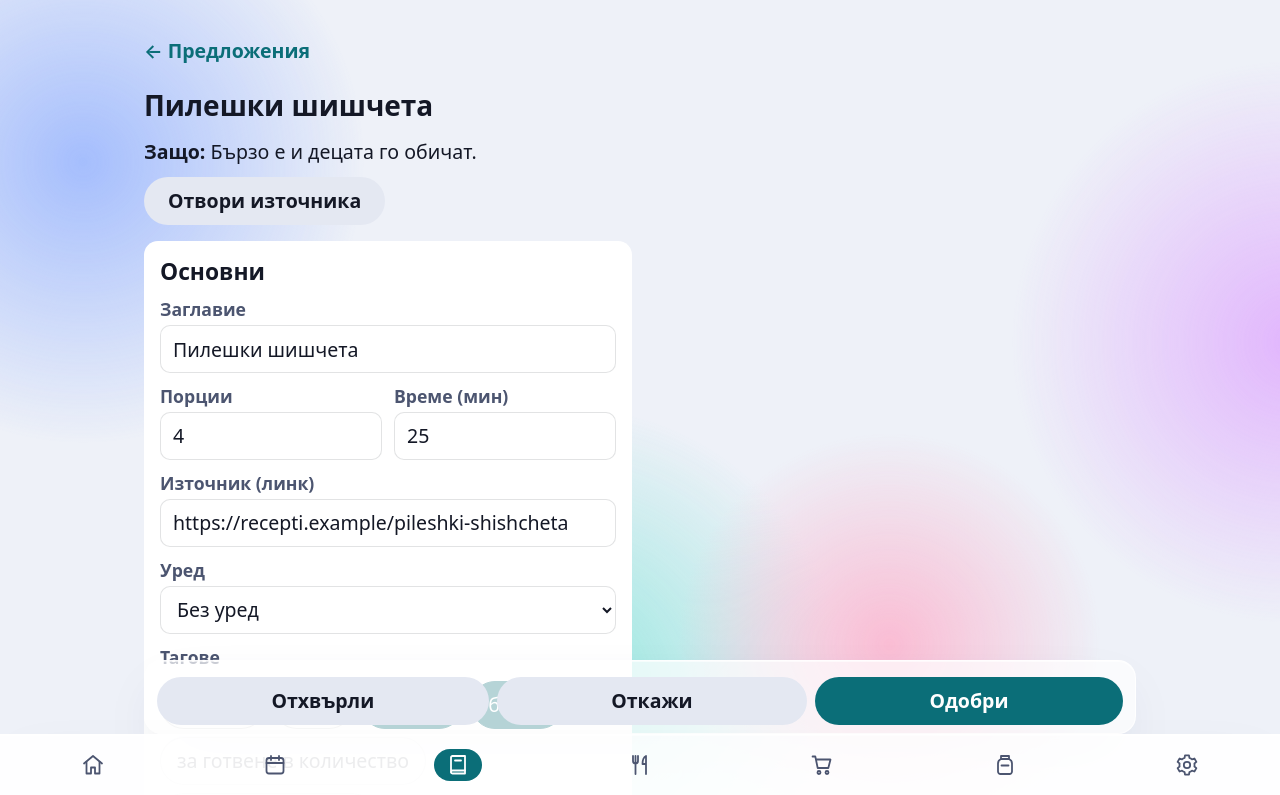
Test: SuggestionReview › с други грешки „Одобри“ казва в лентата да се поправят полетата
Clear the field labelled "Заглавие" at (388, 349), box [160, 325, 616, 373]
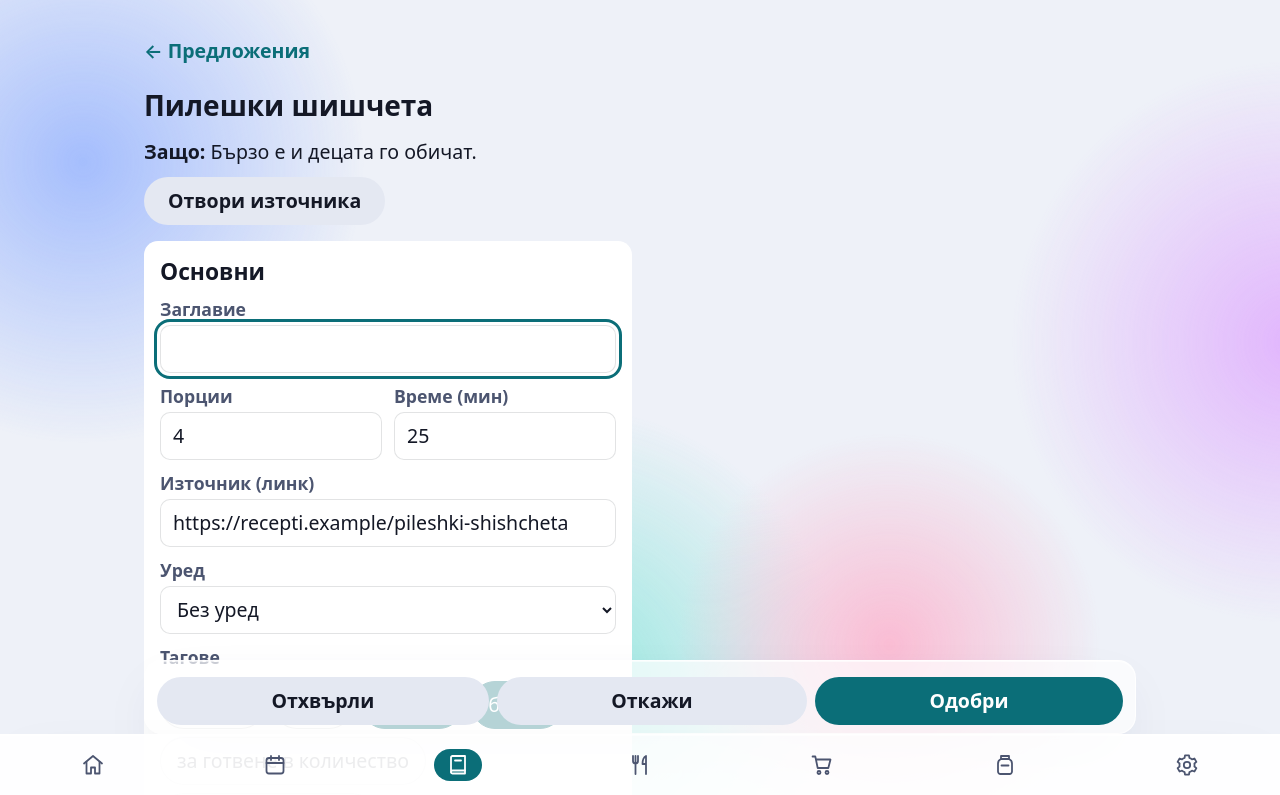
Click the button "Одобри".
click(969, 701)  # box [815, 677, 1123, 725]
(page scrolled)
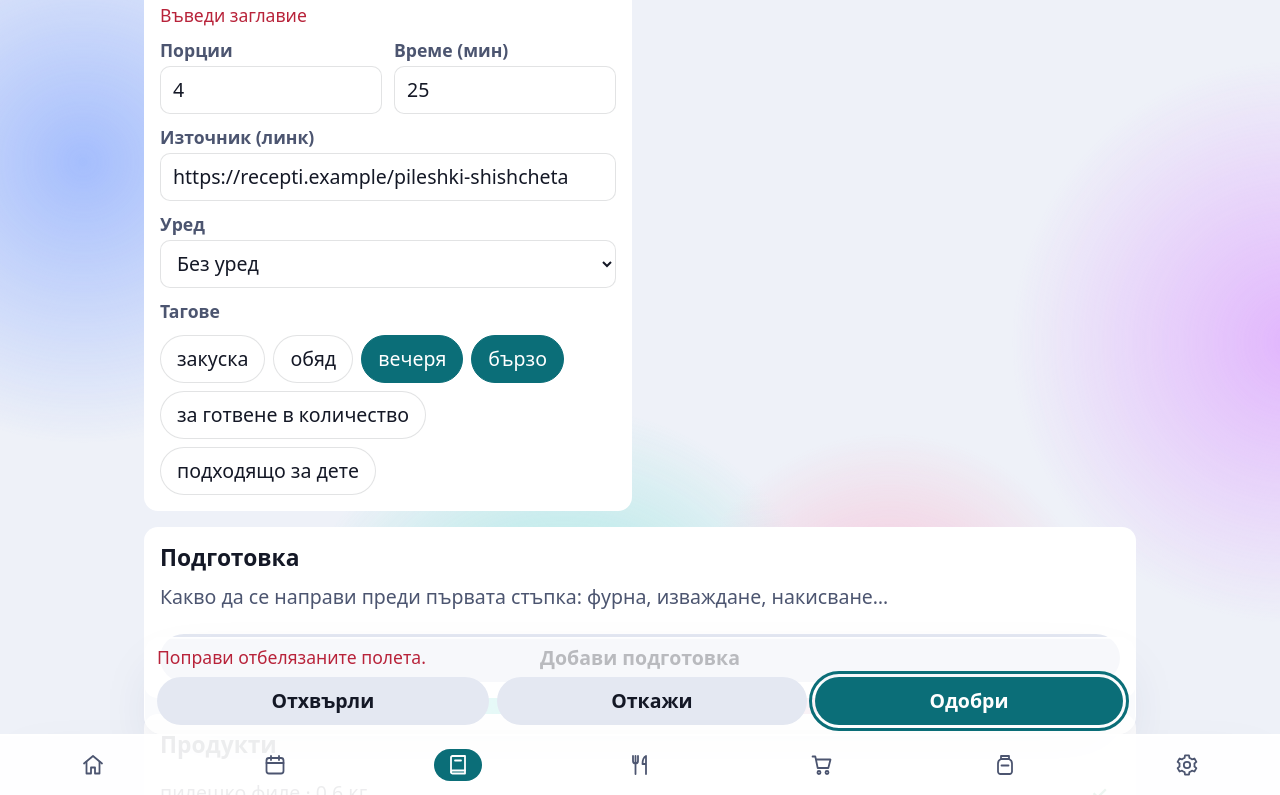
Now the message reads "Поправи отбелязаните полета.", box [157, 645, 426, 669]
Now the text "Въведи заглавие" is shown, box [160, 3, 307, 27]
